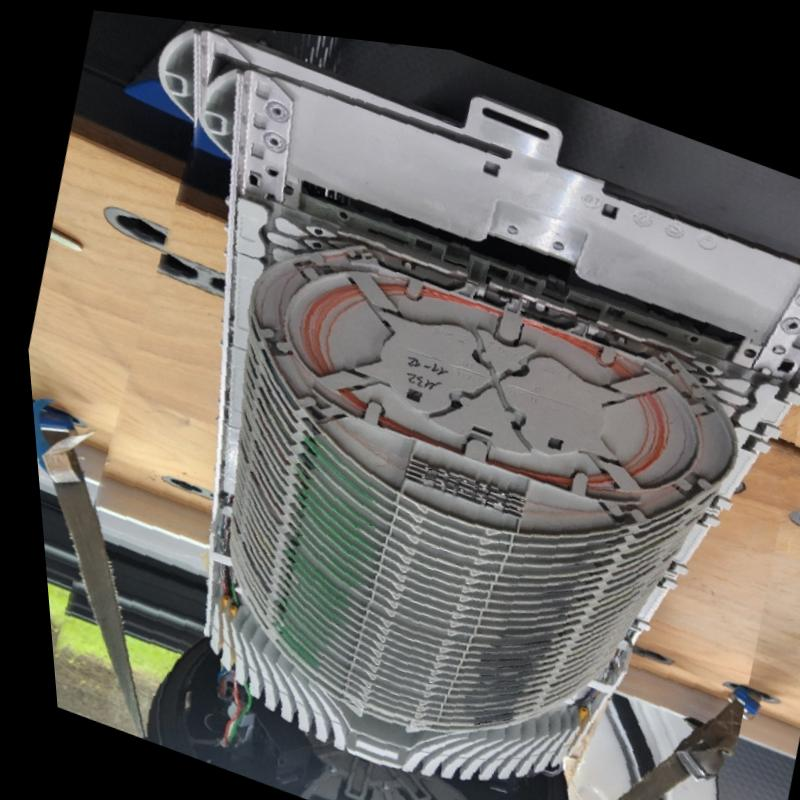NT-Muffen: (125, 37, 800, 800)
